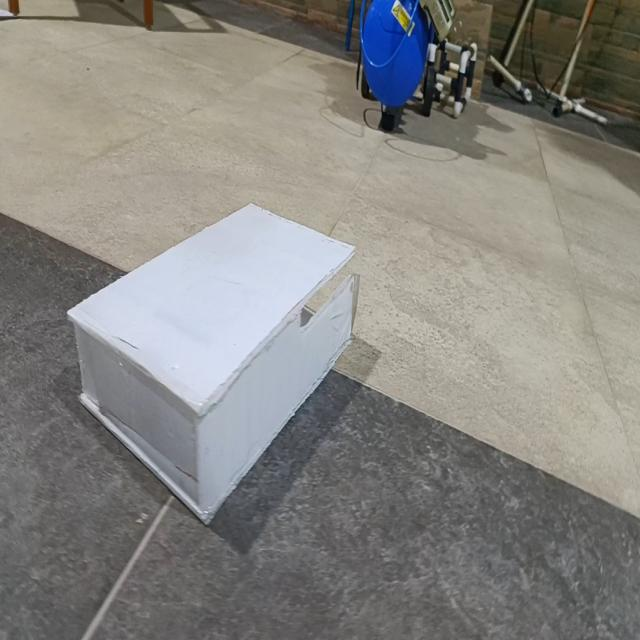Cuboid: (66, 199, 360, 526)
